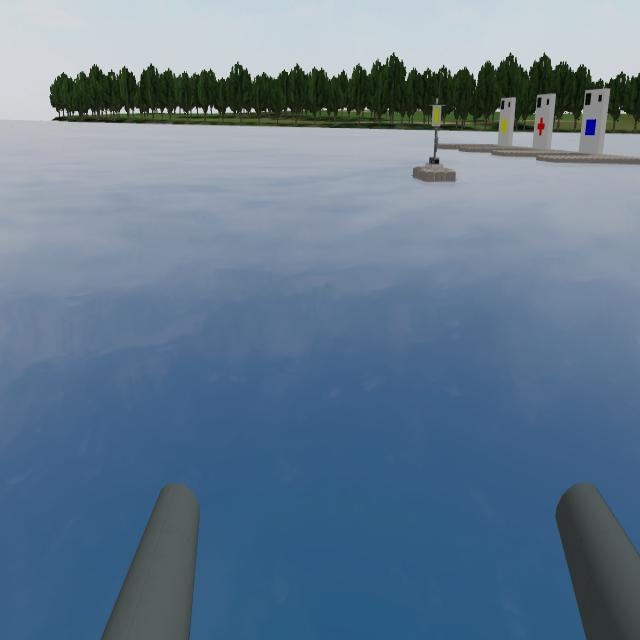yellow_pole: (427, 90, 449, 130)
